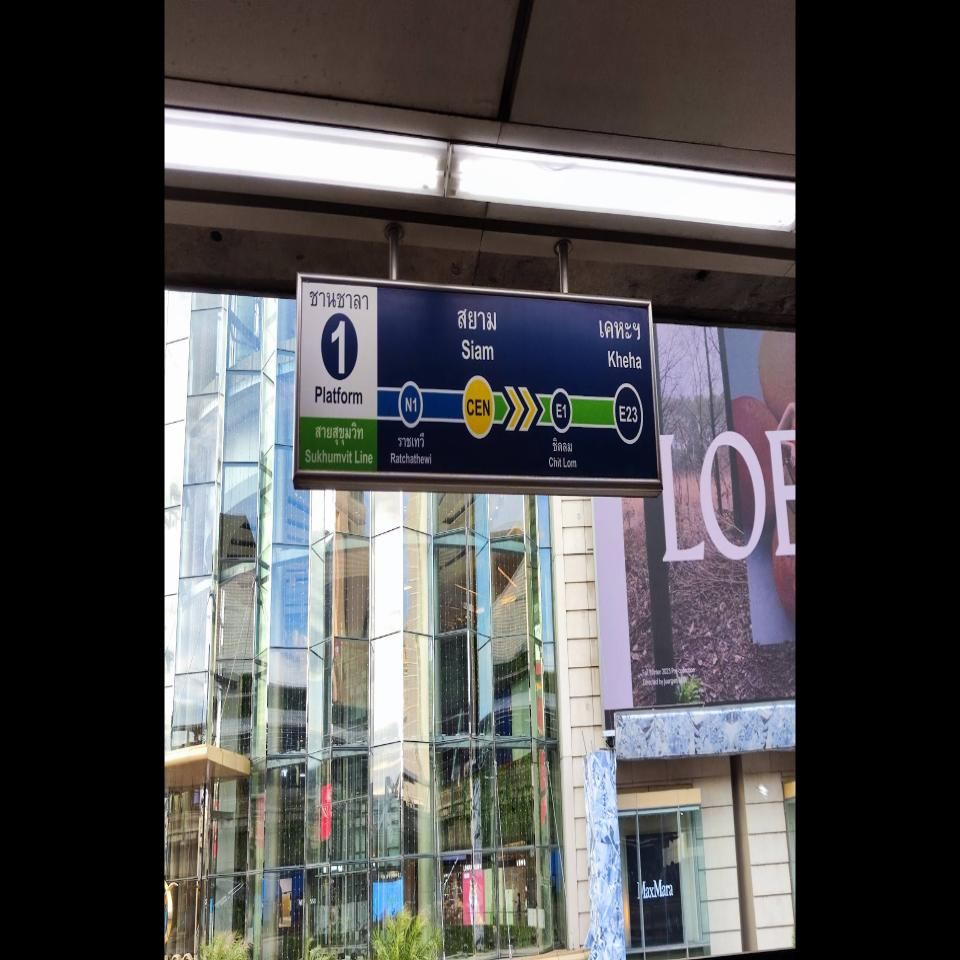signage: (398, 304, 574, 436)
